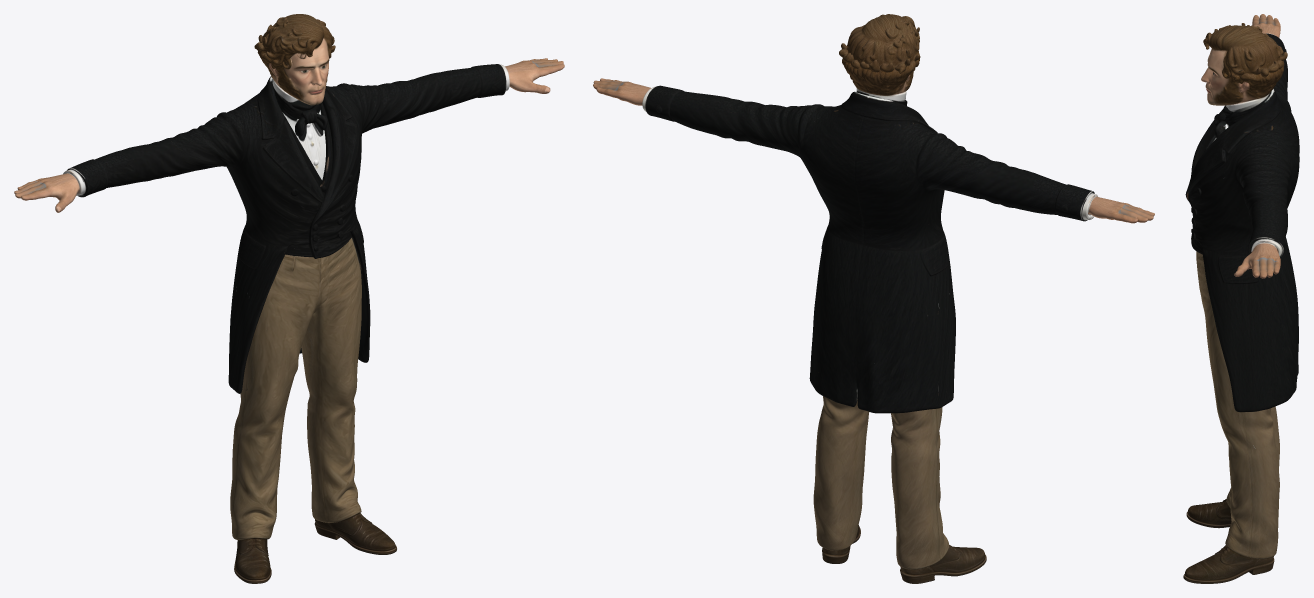
Rendered from martin-harris-source.glb.
The picture shows the model from 3 angles, left to right: view 1: azimuth 30°, elevation 25°; view 2: azimuth 150°, elevation 25°; view 3: azimuth 270°, elevation 25°; orthographic projection. The views are drawn at different scales.
Size of the model in its own units: 1.9 by 1.76 by 0.3558.
Materials: 1 (1 with a texture image).
